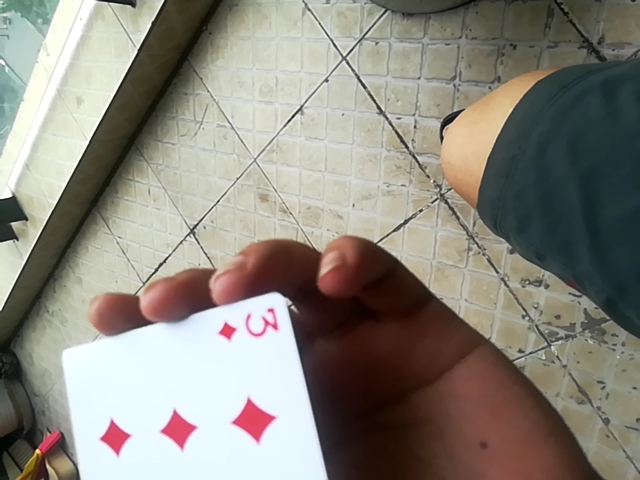fk 3: (56, 286, 335, 478)
